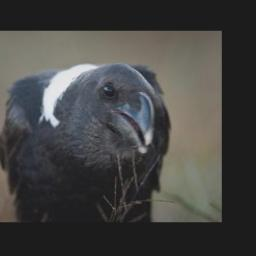Crow: (0, 61, 172, 217)
